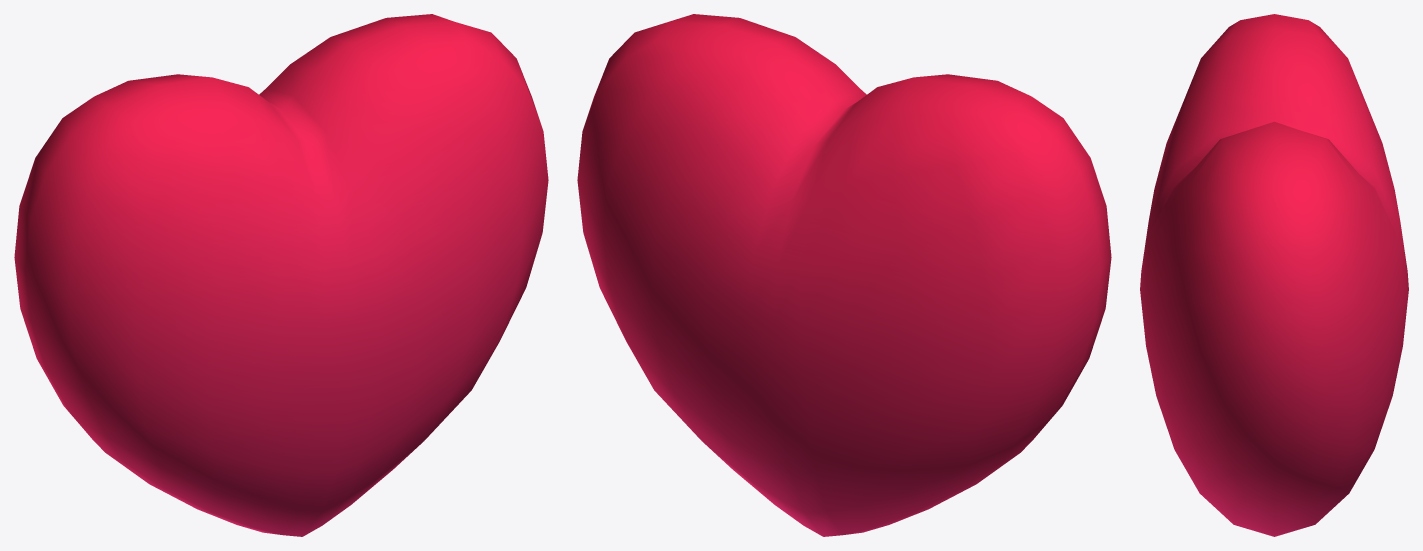
Rendered from lollipop_008.glb.
The picture shows the model from 3 angles, left to right: view 1: azimuth 30°, elevation 25°; view 2: azimuth 150°, elevation 25°; view 3: azimuth 270°, elevation 25°; orthographic projection. The views are drawn at different scales.
Parts seen in each view (by area): view 1: lollipop_008; view 2: lollipop_008; view 3: lollipop_008.
Boxes of the visible parts, x1,y1,x2,y2 form: lollipop_008: [14, 14, 548, 536]; lollipop_008: [577, 14, 1111, 536]; lollipop_008: [1140, 14, 1408, 536].
Size of the model in its own units: 3.93 by 3.51 by 1.9.
1 material, 1 textured.
